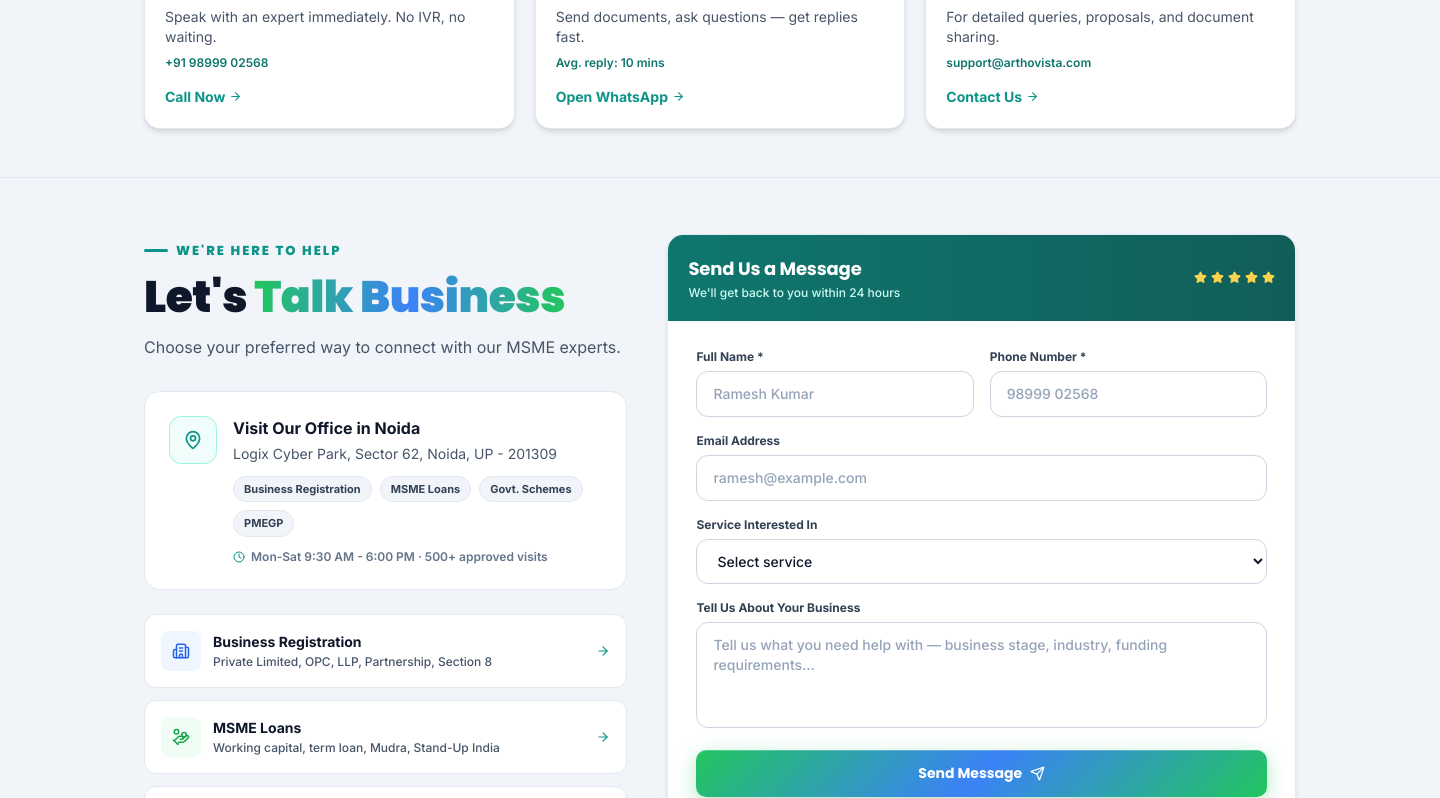
Contact Page Component › displays error message when API responds with an error
The width and height of the screenshot is (1440, 798).
(page scrolled)
Step 1. Type "Test User" into the field with placeholder "Ramesh Kumar" → x=835, y=394, box left=696, top=370, right=974, bottom=416
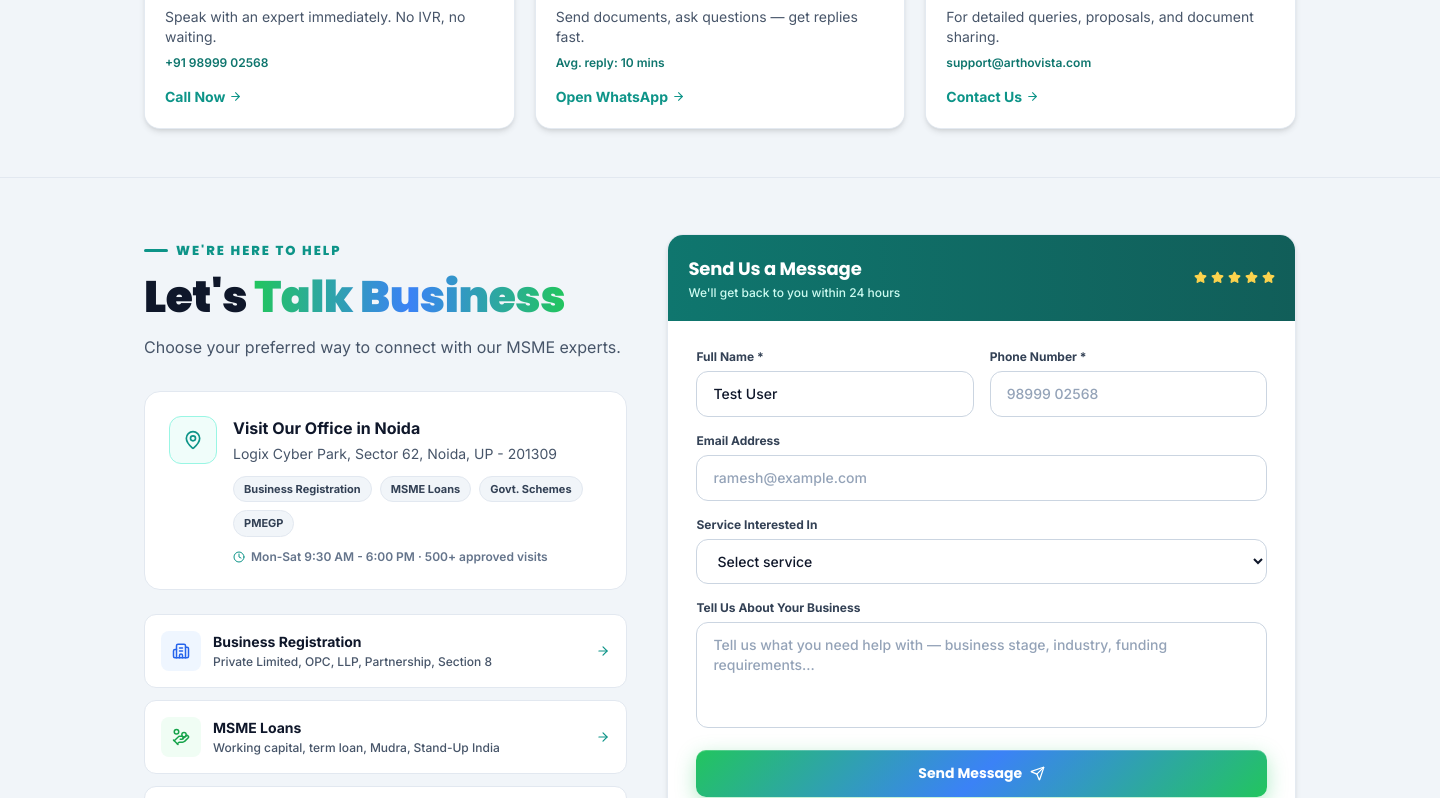
Step 2. Type "123" into the field with placeholder "98999 02568" → x=1128, y=394, box left=990, top=370, right=1267, bottom=416
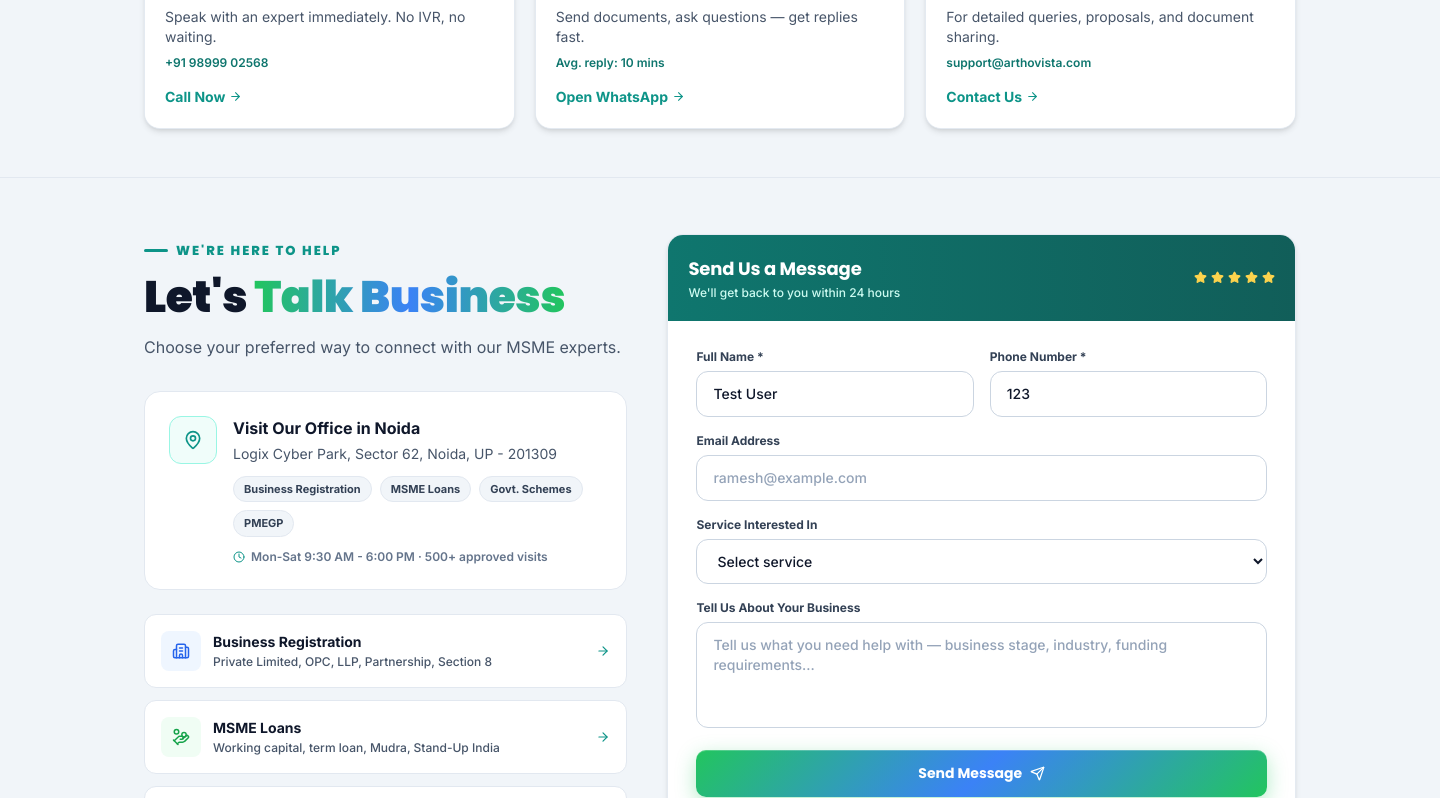
Step 3. Click the button "Send Message" → x=982, y=773, box left=696, top=750, right=1267, bottom=796
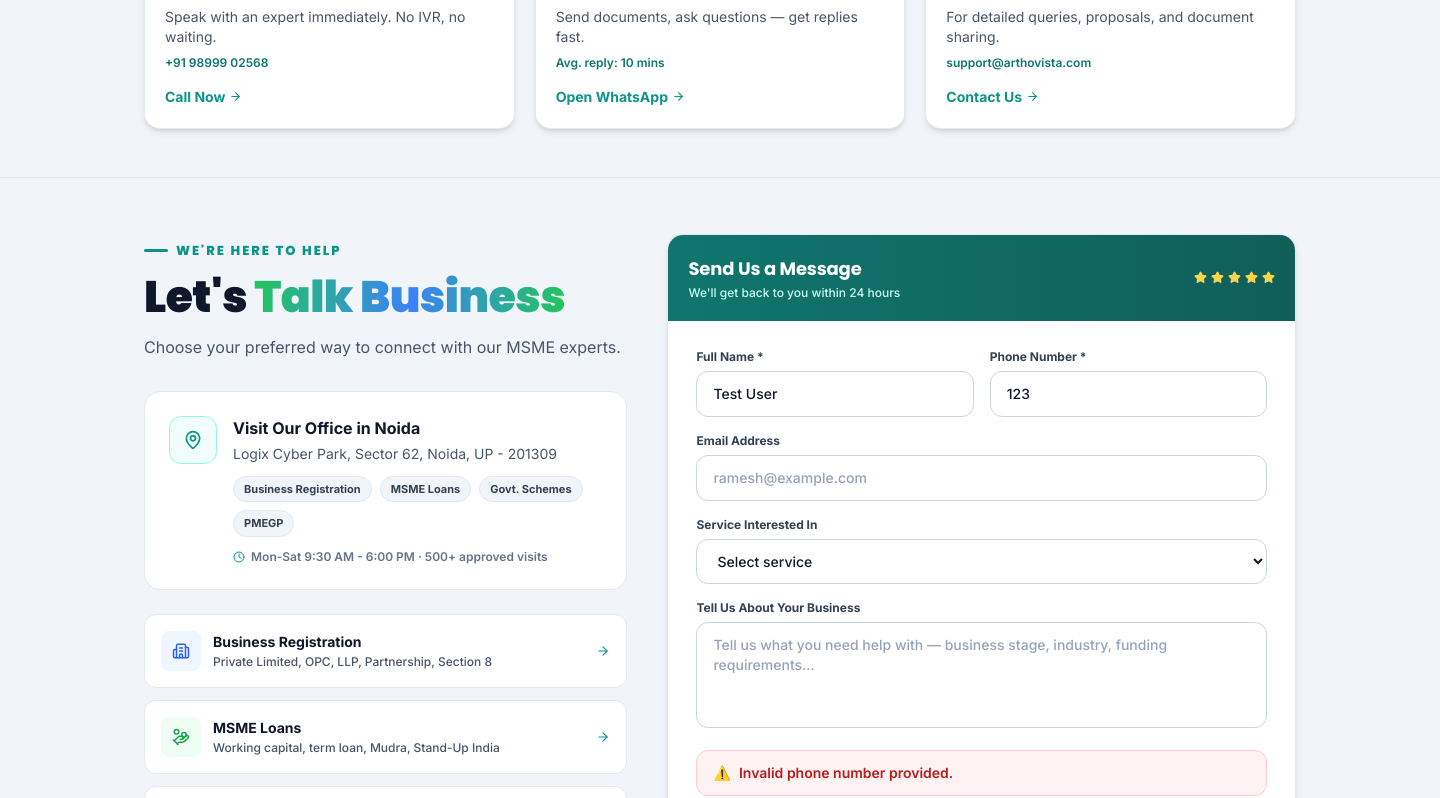
Expected: the text "Invalid phone number provided." is shown, left=739, top=762, right=953, bottom=782
